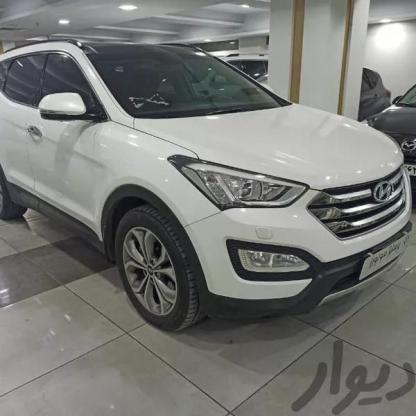Car: (0, 32, 416, 330), (361, 78, 416, 206)
